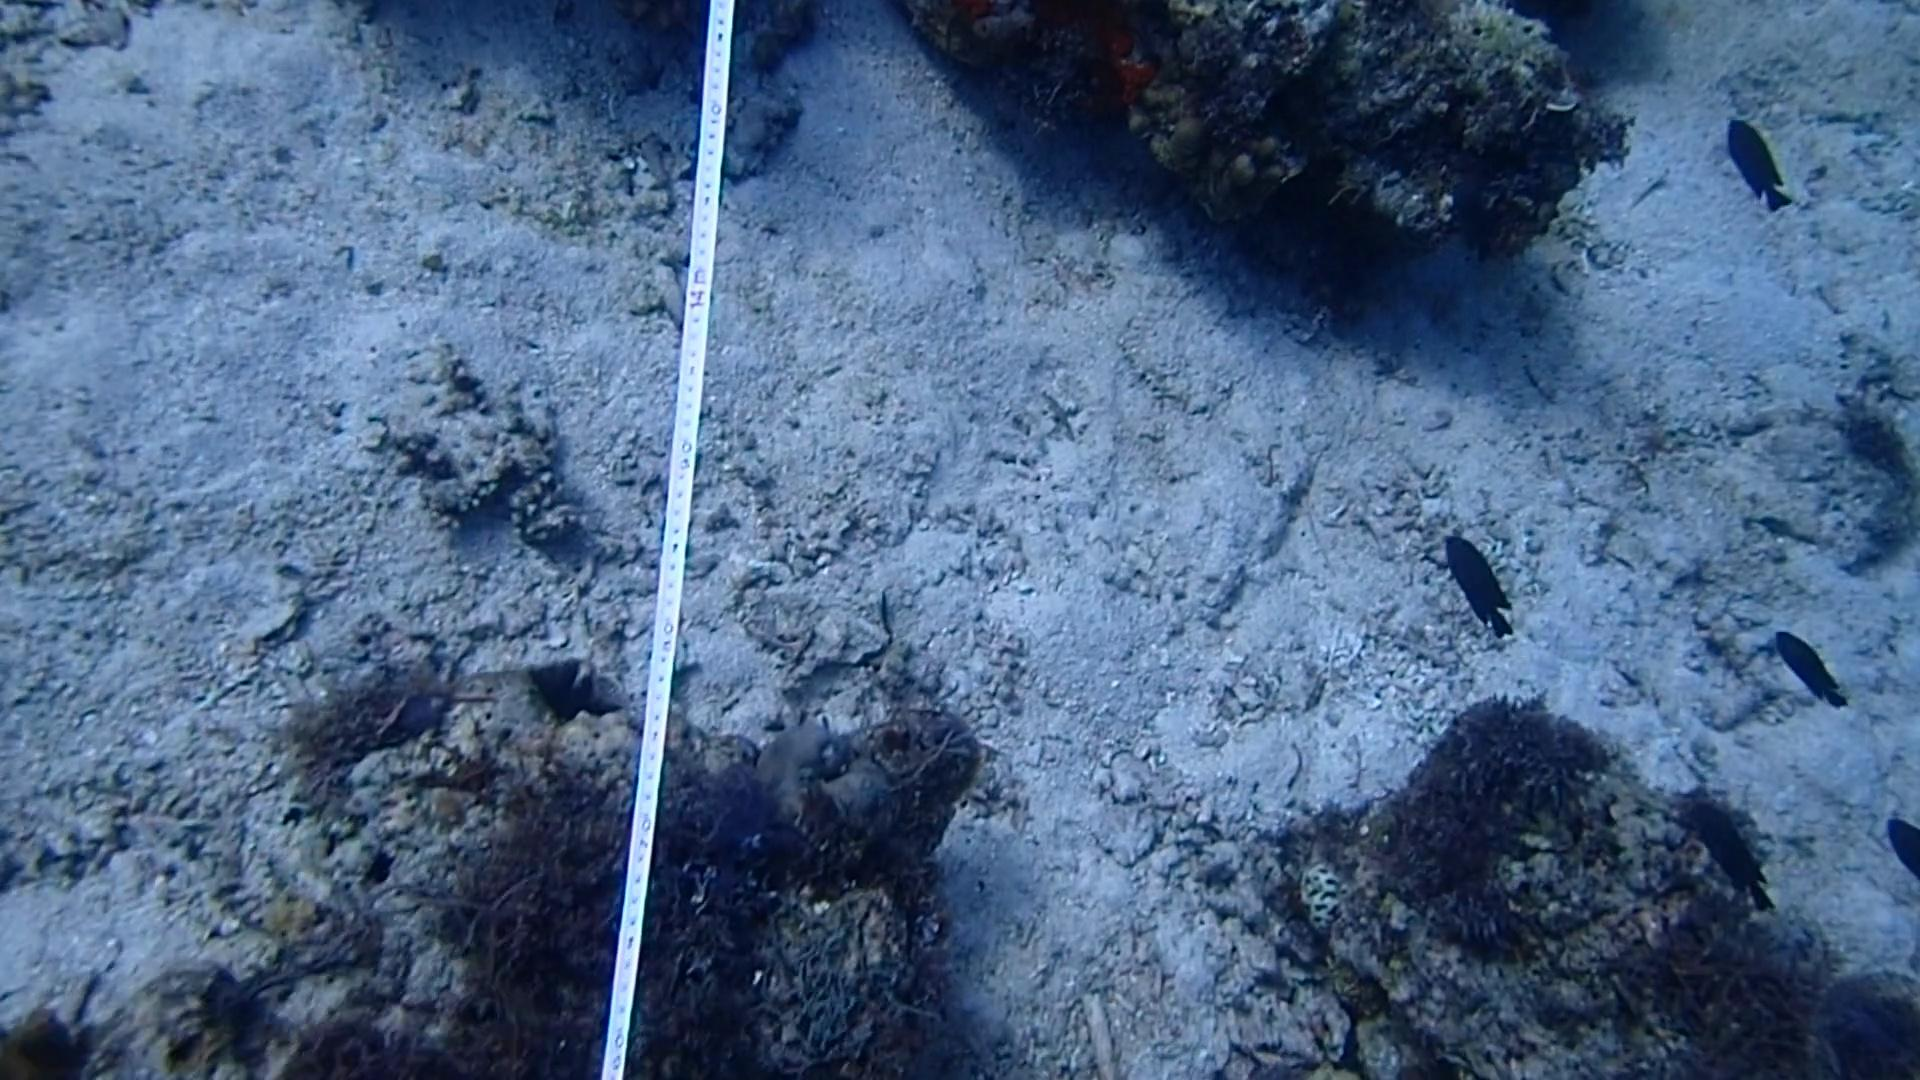Dark Fish: (1683, 789, 1785, 924), (1420, 516, 1522, 650), (1708, 100, 1805, 222), (1759, 611, 1859, 717)
